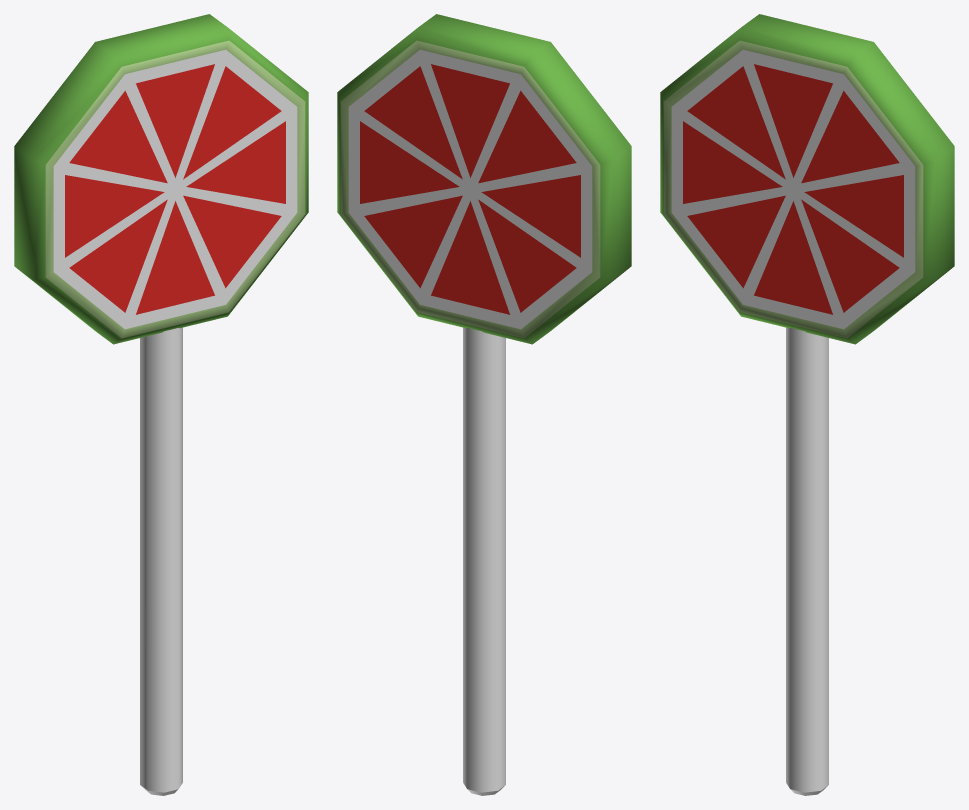
File: Candy_11.fbx
3 views of the same model, side by side, from view 1: azimuth 30°, elevation 25°; view 2: azimuth 150°, elevation 25°; view 3: azimuth 330°, elevation 25° (orthographic).
Parts seen in each view (by area): view 1: Candy_11; view 2: Candy_11; view 3: Candy_11.
Part boxes in pixels (<box>): Candy_11: <box>14,14,308,795</box>; Candy_11: <box>337,14,631,795</box>; Candy_11: <box>660,14,954,795</box>.
Size of the model in its own units: 1.1 by 2.87 by 0.193.
